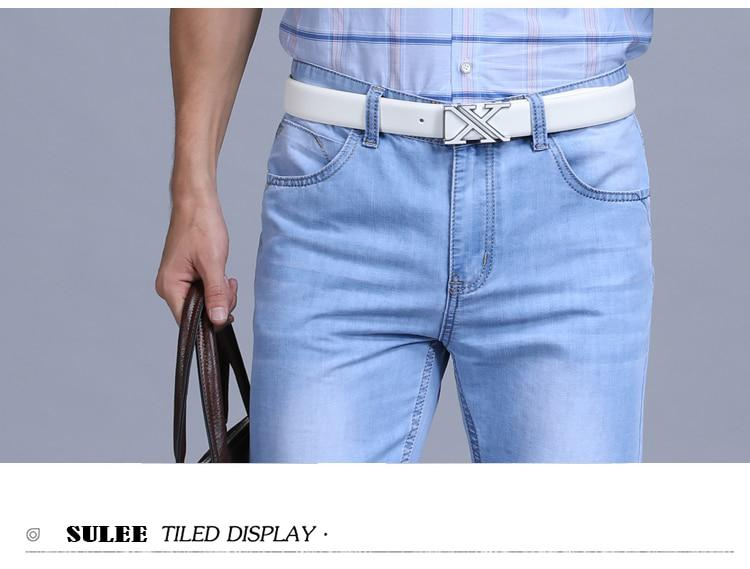jeans: (207, 75, 653, 473)
